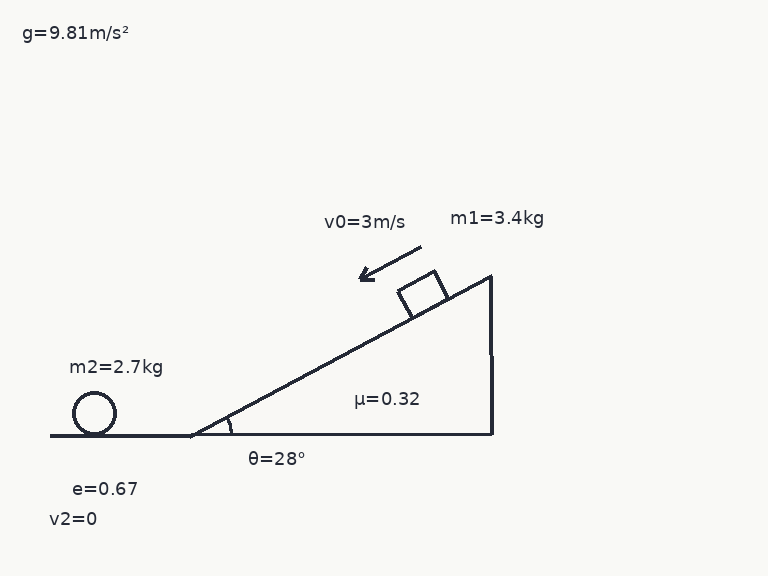ball: (70, 389, 118, 437)
block: (395, 269, 450, 320)
ramp: (189, 273, 493, 437)
